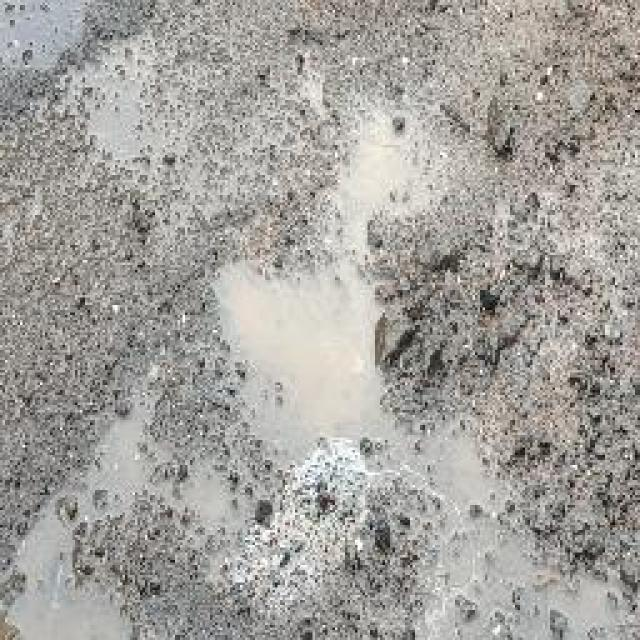puddle: (209, 118, 438, 470), (6, 417, 241, 640)
